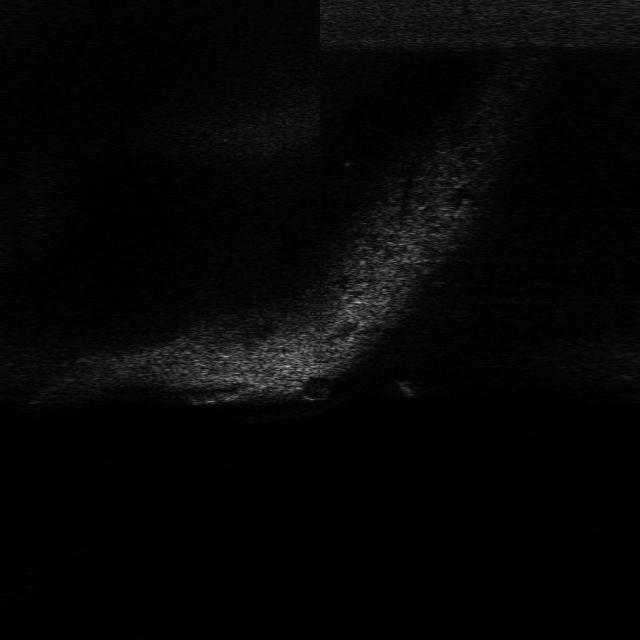cylinder: (390, 377, 420, 400)
